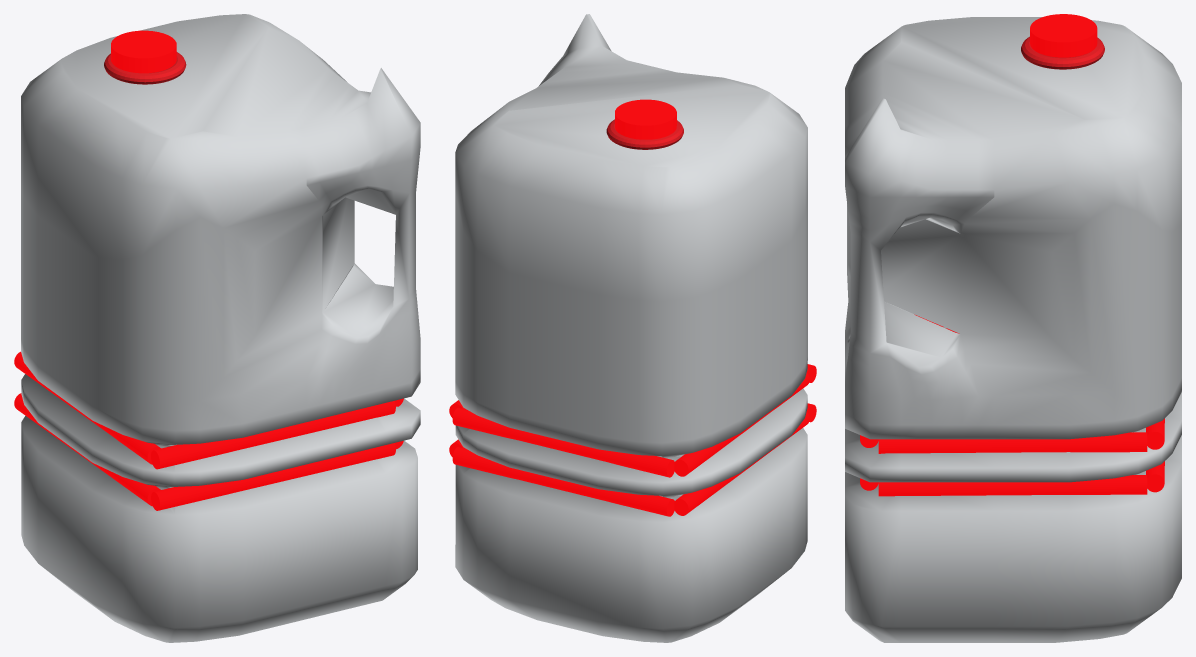
The model's file is milkjugv1.glb.
3 renders of one model, left to right at view 1: azimuth 30°, elevation 25°; view 2: azimuth 150°, elevation 25°; view 3: azimuth 270°, elevation 25°, orthographic. The views are drawn at different scales.
Visible parts, largest first — view 1: Cube, Cylinder.013, Cylinder.012, Cylinder, Torus.001, Cylinder.015, Cylinder.010; view 2: Cube, Cylinder.014, Cylinder.011, Cylinder, Cylinder.015, Cylinder.010, Torus.001; view 3: Cube, Cylinder.016, Cylinder.009, Cylinder, Torus.001.
Boxes of the visible parts, bbox=[...] form: Cube: bbox=[21, 14, 420, 642]; Cylinder.013: bbox=[151, 401, 395, 469]; Cylinder.012: bbox=[151, 443, 395, 510]; Cylinder: bbox=[111, 30, 176, 73]; Torus.001: bbox=[104, 52, 186, 84]; Cylinder.015: bbox=[14, 351, 160, 464]; Cylinder.010: bbox=[14, 393, 160, 506]; Cube: bbox=[455, 14, 807, 642]; Cylinder.014: bbox=[452, 407, 674, 477]; Cylinder.011: bbox=[452, 447, 674, 516]; Cylinder: bbox=[615, 99, 676, 139]; Cylinder.015: bbox=[674, 372, 809, 476]; Cylinder.010: bbox=[674, 412, 809, 515]; Torus.001: bbox=[606, 119, 683, 149]; Cube: bbox=[845, 17, 1181, 642]; Cylinder.016: bbox=[878, 432, 1147, 453]; Cylinder.009: bbox=[878, 475, 1147, 496]; Cylinder: bbox=[1030, 14, 1097, 57]; Torus.001: bbox=[1021, 36, 1104, 69].
Size of the model in its own units: 2 by 3.55 by 2.
